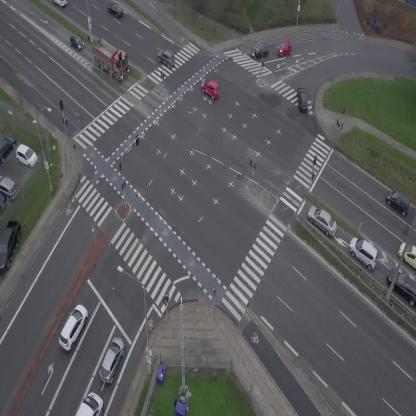car: (54, 302, 92, 353), (95, 335, 129, 386), (343, 233, 385, 272), (303, 202, 343, 240), (382, 187, 414, 216), (198, 76, 223, 100), (154, 47, 179, 69), (398, 243, 416, 269), (65, 32, 86, 54), (295, 87, 311, 112), (275, 40, 293, 57), (249, 44, 268, 58), (52, 0, 67, 7)
lorry: (83, 33, 137, 85), (75, 392, 103, 416)
